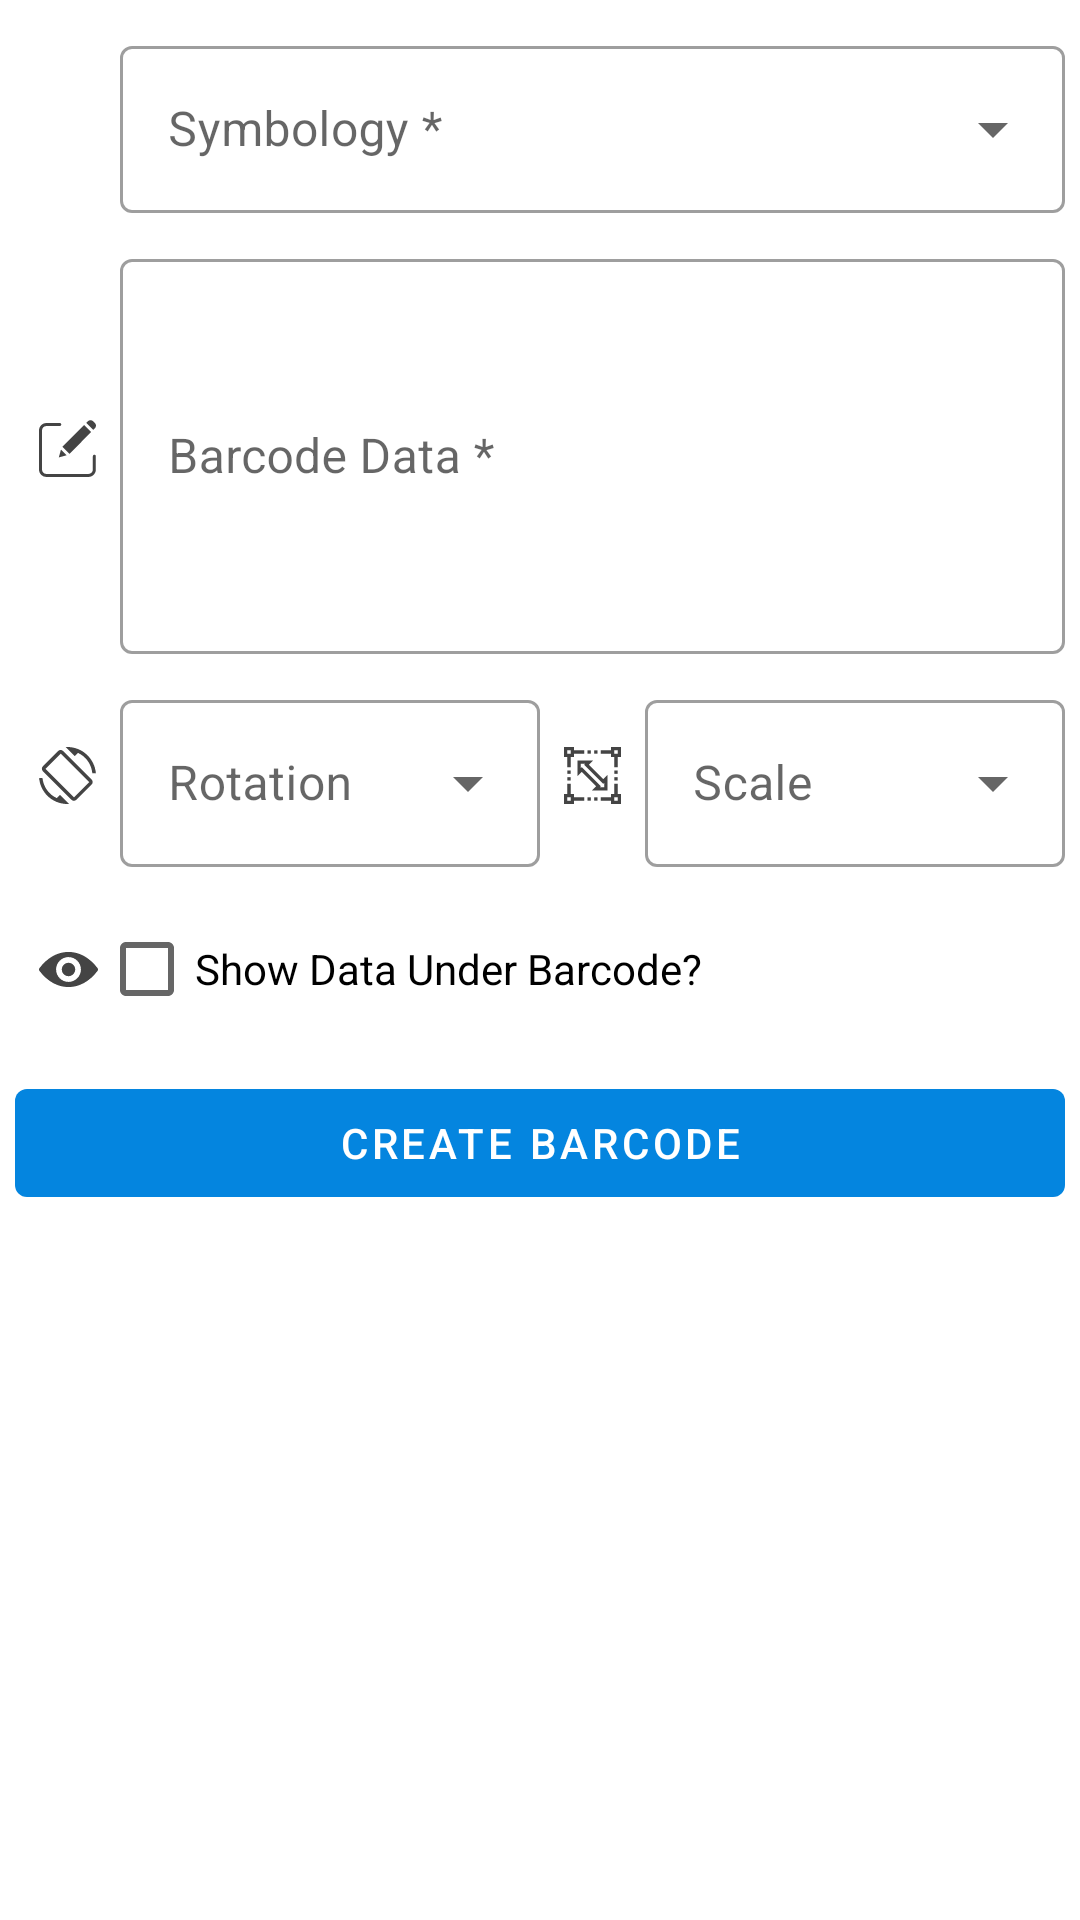

Icon bounding boxes for this 1080×1920 phone screenshot, format (x1, y1, x2, y2):
resize: (564, 747, 621, 804)
rotate: (39, 747, 96, 804)
visibility: (39, 952, 98, 987)
